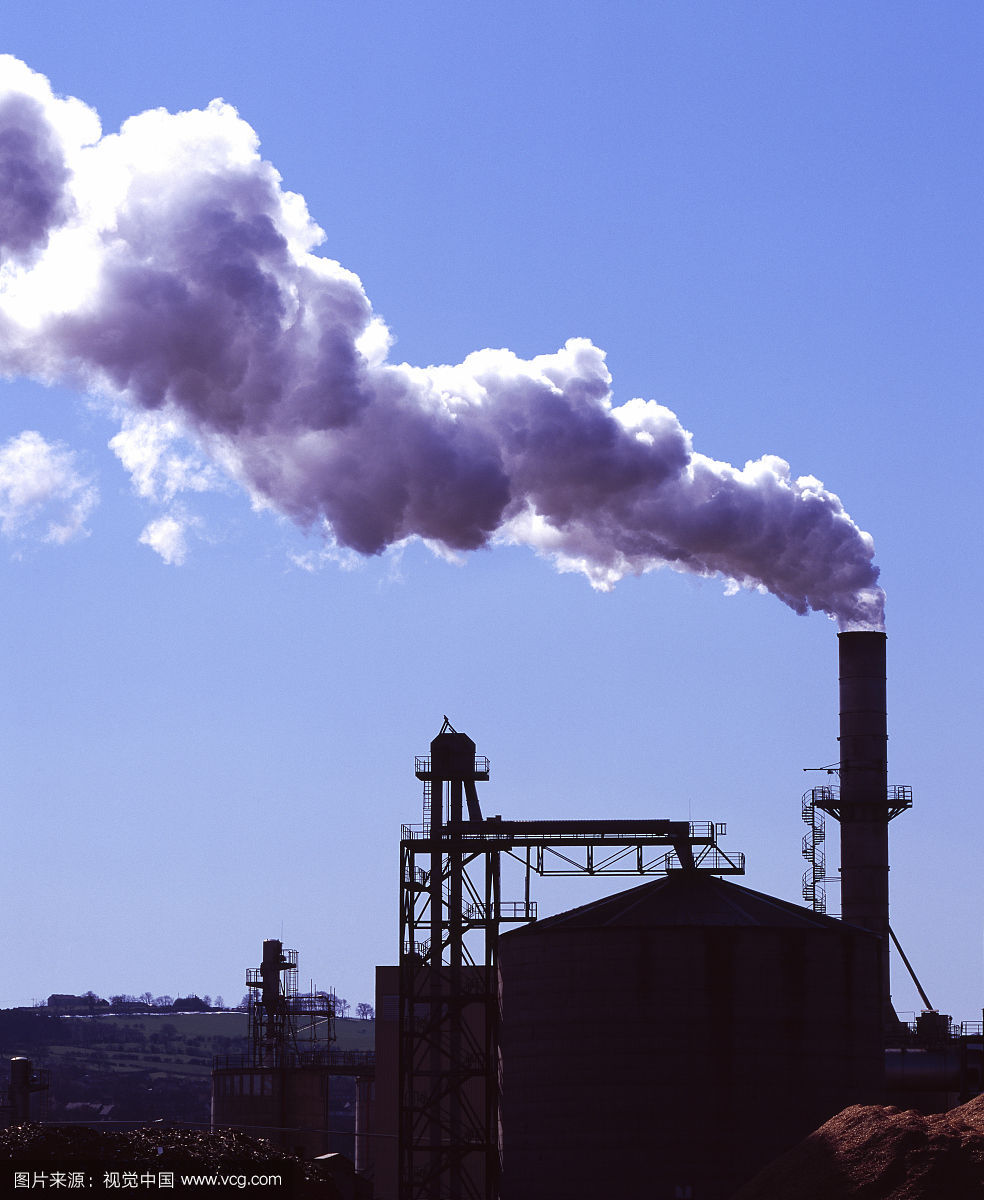dust: (129, 183, 920, 656)
